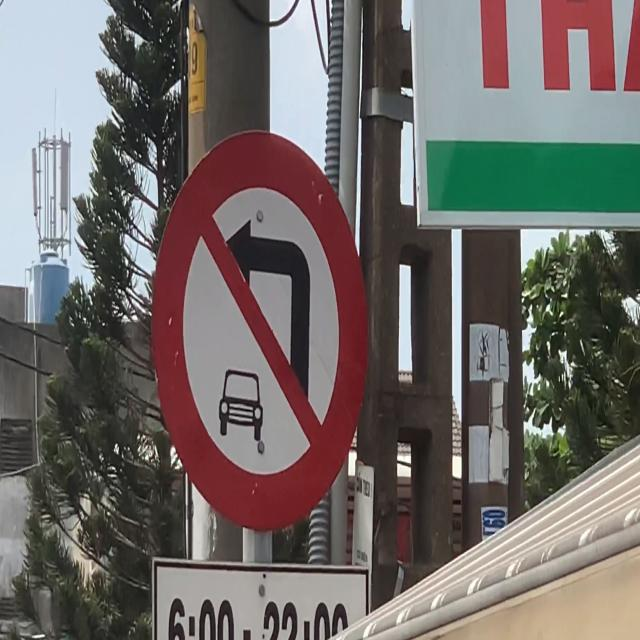Cam re trai: (149, 125, 368, 533)
